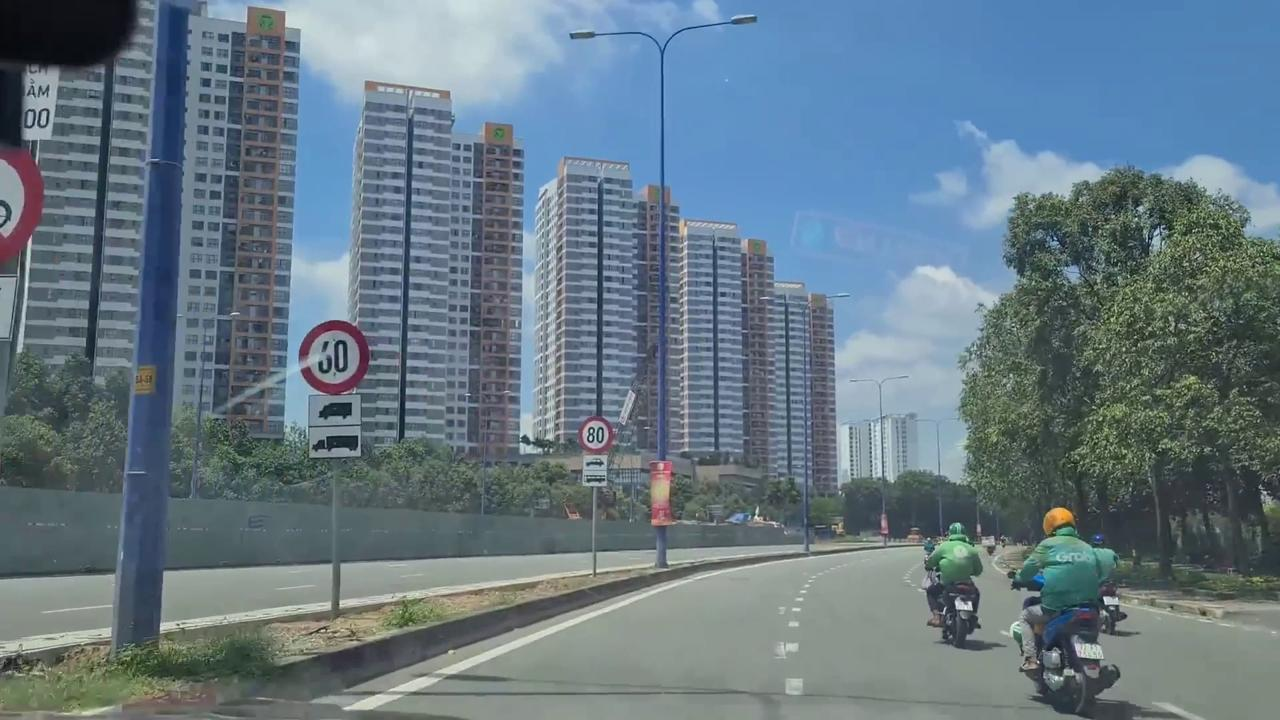Biển phụ: (305, 393, 364, 458), (579, 452, 608, 488)
GIơi hạn tốc độ 60Km/h: (298, 318, 372, 396)
Giới hạn tốc độ 80Km/h: (578, 413, 614, 453)
